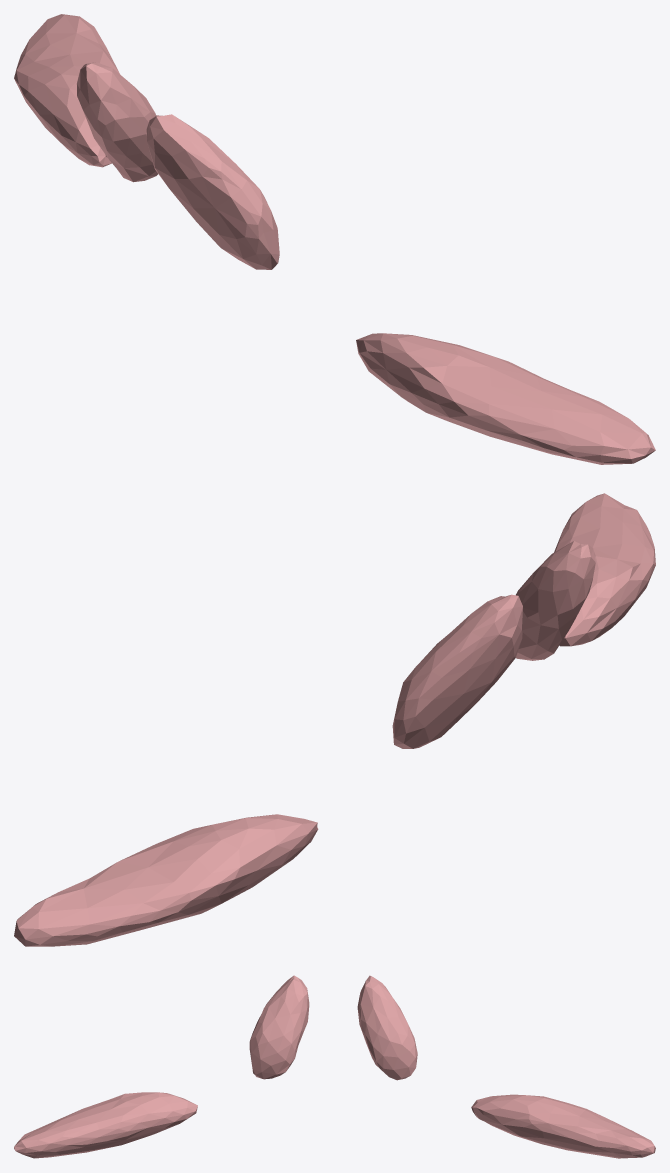
3 renders of one model, top to bottom at view 1: azimuth 30°, elevation 25°; view 2: azimuth 150°, elevation 25°; view 3: azimuth 270°, elevation 25°, orthographic. The views are drawn at different scales.
Parts seen in each view (by area): view 1: 406.obj; view 2: 406.obj; view 3: 406.obj.
Boxes of the visible parts, bbox=[...] form: 406.obj: bbox=[14, 14, 655, 464]; 406.obj: bbox=[14, 493, 655, 946]; 406.obj: bbox=[14, 975, 655, 1158].
Bounding box in the file's own units: 924 × 809 × 3714.
